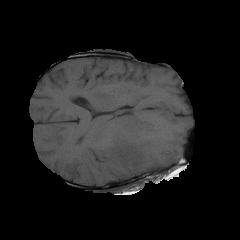glioma: (108, 115, 172, 173)
